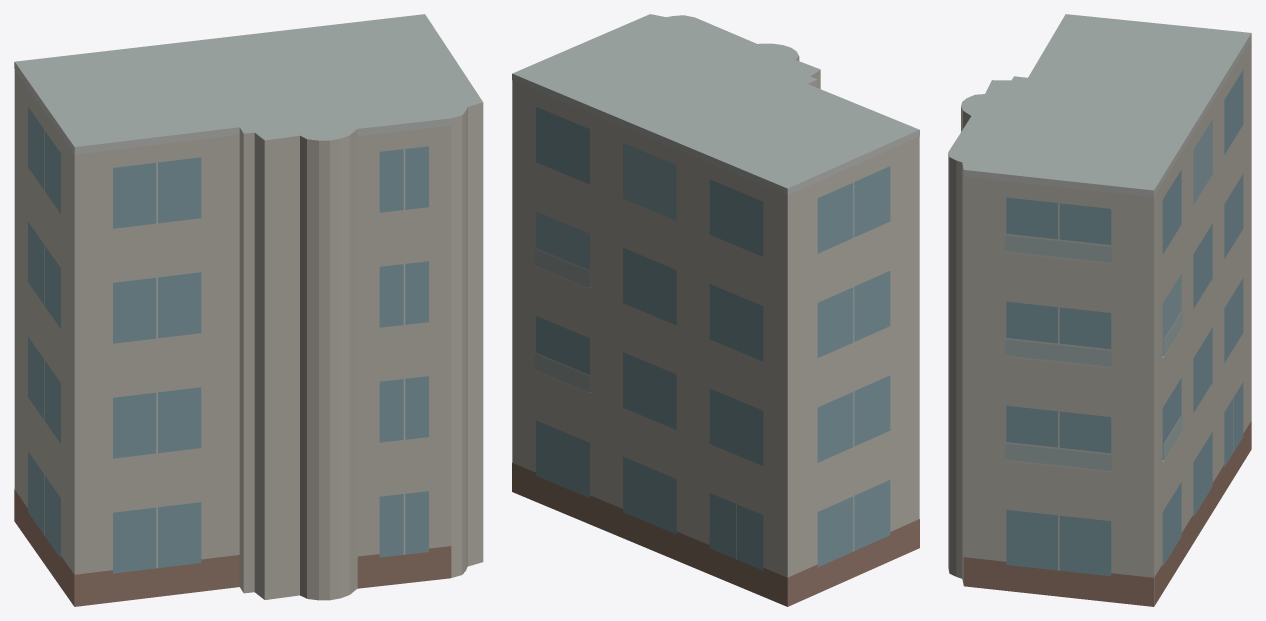
File: survey-upis-32501662.glb
The picture shows the model from 3 angles, left to right: view 1: azimuth 30°, elevation 25°; view 2: azimuth 150°, elevation 25°; view 3: azimuth 270°, elevation 25°; orthographic projection. The views are drawn at different scales.
Parts seen in each view (by area): view 1: survey-upis-32501662.tmp; view 2: survey-upis-32501662.tmp; view 3: survey-upis-32501662.tmp.
Boxes of the visible parts, x1,y1,x2,y2 form: survey-upis-32501662.tmp: (14, 14, 483, 606); survey-upis-32501662.tmp: (512, 14, 919, 606); survey-upis-32501662.tmp: (948, 14, 1251, 606).
Bounding box in the file's own units: 13.64 × 15 × 9.91.
